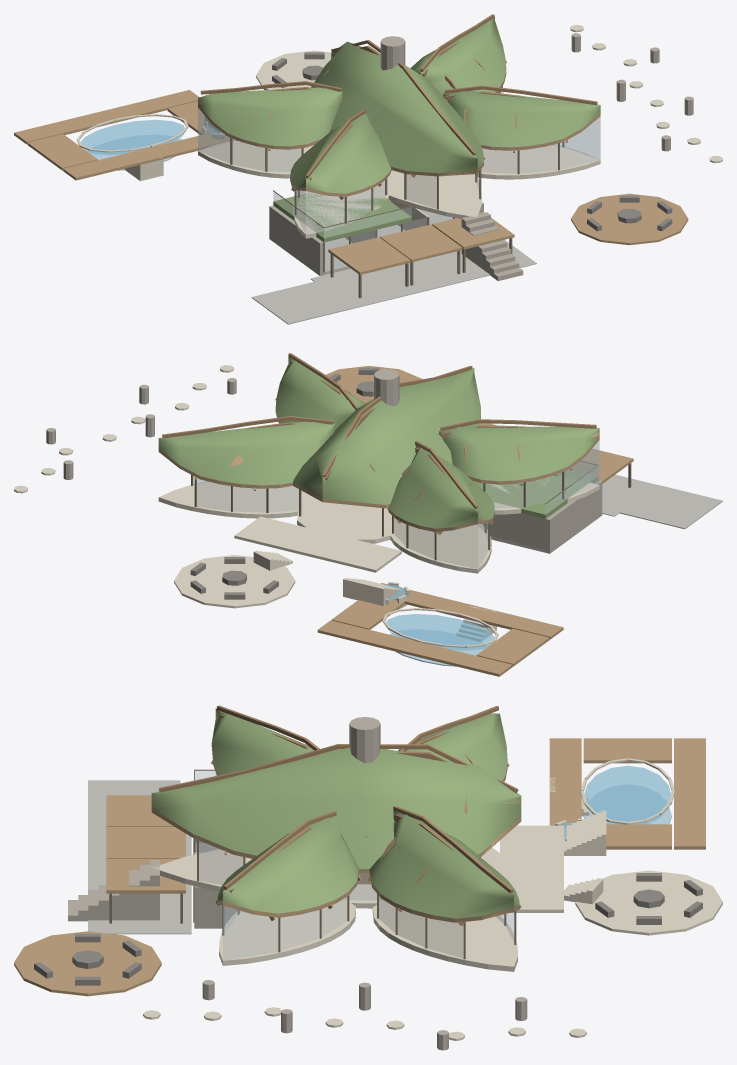
File: oak-leaf-massing.lod1.glb
3 views of the same model, one above another, from view 1: azimuth 30°, elevation 25°; view 2: azimuth 150°, elevation 25°; view 3: azimuth 270°, elevation 25° (orthographic). The views are drawn at different scales.
Size of the model in its own units: 55.45 by 14.8 by 49.9.
